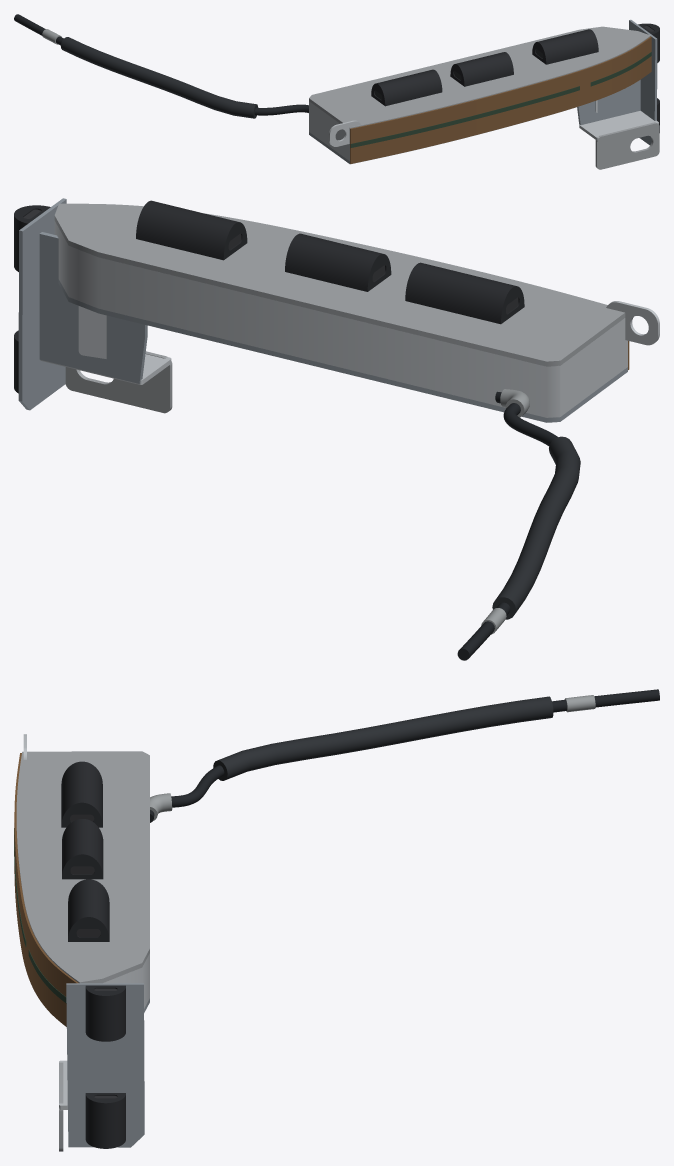
The model's file is long.glb.
The picture shows the model from 3 angles, top to bottom: view 1: azimuth 30°, elevation 25°; view 2: azimuth 150°, elevation 25°; view 3: azimuth 270°, elevation 25°; orthographic projection. The views are drawn at different scales.
Parts seen in each view (by area): view 1: long__body__narrow_tan_edge_following_curve, long__body__long_curved_upper_metal_flange, long__cable__sleeve_2, long__body__broad_bent_ear_with_oblong_open_hole, long__body__longitudinal_pad_1_wrap, long__body__longitudinal_pad_3_wrap, long__body__dropped_folded_terminal_bracket, long__body__longitudinal_pad_2_wrap, long__body__perpendicular_terminal_return, long__body__green_line_section_1, long__body__terminal_offset_shelf, long__body__folded_return_edges (+3 smaller); view 2: long__body__folded_return_edges, long__body__long_curved_upper_metal_flange, long__body__dropped_folded_terminal_bracket, long__body__perpendicular_terminal_return, long__cable__sleeve_2, long__body__longitudinal_pad_1_wrap, long__body__longitudinal_pad_3_wrap, long__body__longitudinal_pad_2_wrap, long__body__long_uncovered_reverse, long__body__broad_bent_ear_with_oblong_open_hole, long__cable__black_coax_visible_run, long__body__reverse_bent_reinforcement (+3 smaller); view 3: long__body__long_curved_upper_metal_flange, long__body__perpendicular_terminal_return, long__cable__sleeve_2, long__body__narrow_tan_edge_following_curve, long__body__longitudinal_pad_1_wrap, long__body__longitudinal_pad_3_wrap, long__body__transverse_pad_1_wrap, long__body__longitudinal_pad_2_wrap, long__body__transverse_pad_2_wrap, long__cable__black_coax_visible_run, long__body__folded_return_edges.
Part boxes in pixels (x1,y1,x2,y2): long__body__narrow_tan_edge_following_curve: (350,36,651,163); long__body__long_curved_upper_metal_flange: (309,26,650,130); long__cable__sleeve_2: (60,37,257,118); long__body__broad_bent_ear_with_oblong_open_hole: (595,122,659,169); long__body__longitudinal_pad_1_wrap: (371,69,442,106); long__body__longitudinal_pad_3_wrap: (532,29,598,64); long__body__dropped_folded_terminal_bracket: (577,80,640,124); long__body__longitudinal_pad_2_wrap: (450,52,513,86); long__body__perpendicular_terminal_return: (629,19,657,145); long__body__green_line_section_1: (350,86,579,147); long__body__terminal_offset_shelf: (579,110,658,140); long__body__folded_return_edges: (309,101,349,161); long__body__folded_return_edges: (54,221,627,417); long__body__long_curved_upper_metal_flange: (54,203,625,366); long__body__dropped_folded_terminal_bracket: (39,232,147,383); long__body__perpendicular_terminal_return: (18,198,66,410); long__cable__sleeve_2: (492,436,580,619); long__body__longitudinal_pad_1_wrap: (405,262,524,324); long__body__longitudinal_pad_3_wrap: (136,200,247,260); long__body__longitudinal_pad_2_wrap: (285,233,391,291); long__body__long_uncovered_reverse: (58,279,627,422); long__body__broad_bent_ear_with_oblong_open_hole: (65,351,172,413); long__cable__black_coax_visible_run: (457,391,557,660); long__body__reverse_bent_reinforcement: (78,306,106,358); long__body__long_curved_upper_metal_flange: (16,751,149,983); long__body__perpendicular_terminal_return: (66,983,144,1147); long__cable__sleeve_2: (213,696,553,780); long__body__narrow_tan_edge_following_curve: (14,753,78,1026); long__body__longitudinal_pad_1_wrap: (61,761,102,827); long__body__longitudinal_pad_3_wrap: (68,879,109,941); long__body__transverse_pad_1_wrap: (85,985,125,1041); long__body__longitudinal_pad_2_wrap: (62,819,103,879); long__body__transverse_pad_2_wrap: (85,1093,125,1148); long__cable__black_coax_visible_run: (150,689,659,822); long__body__folded_return_edges: (103,953,149,1008).
Bounding box in the file's own units: 0.0668 × 0.0184 × 0.0553.
